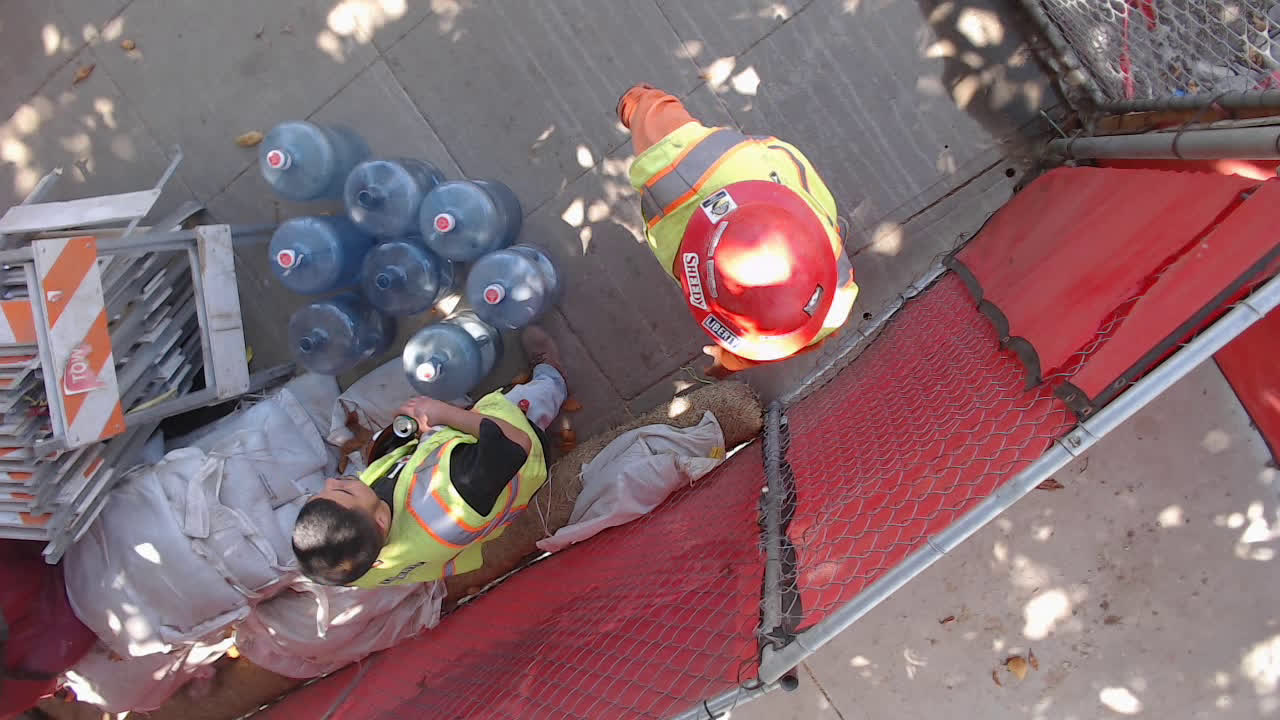hardhat: (666, 180, 838, 364)
safetyvest: (625, 120, 851, 360), (337, 388, 548, 589)
